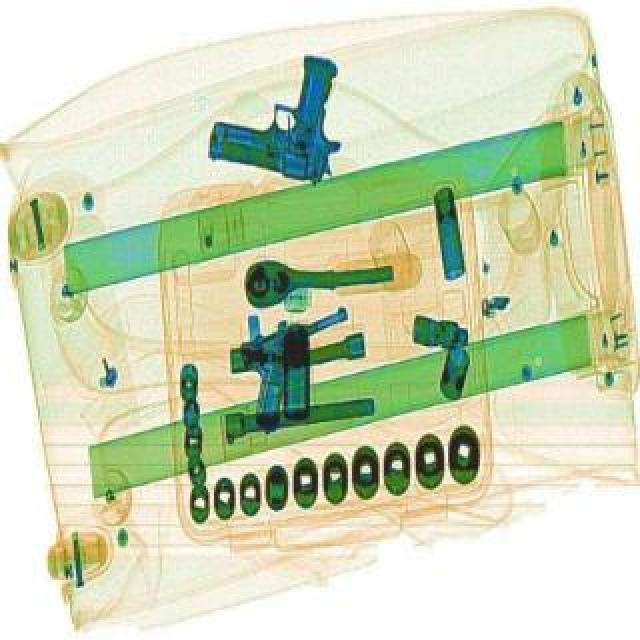gun: (206, 34, 364, 186), (224, 300, 388, 434)
